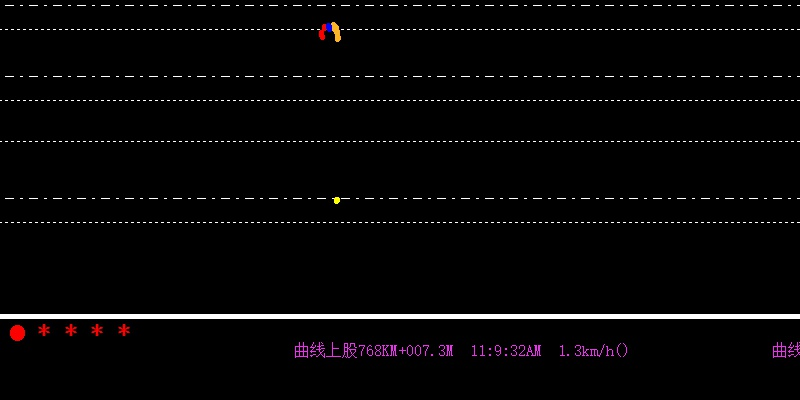circle: (7, 322, 28, 344)
face_2: (318, 20, 342, 44)
star: (38, 320, 54, 342), (88, 320, 106, 339), (61, 321, 80, 338), (118, 320, 133, 338)
